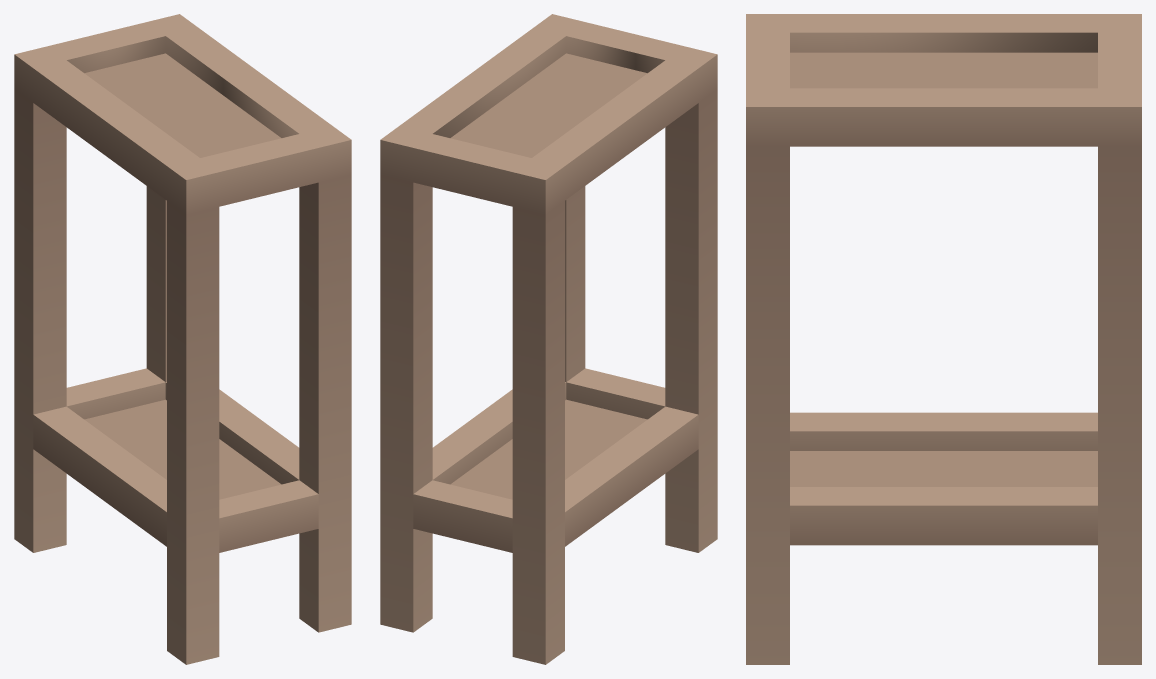
The model's file is cabinet-narrow-small.glb.
3 renders of one model, left to right at view 1: azimuth 30°, elevation 25°; view 2: azimuth 150°, elevation 25°; view 3: azimuth 270°, elevation 25°, orthographic. The views are drawn at different scales.
Parts seen in each view (by area): view 1: cabinet-narrow-small; view 2: cabinet-narrow-small; view 3: cabinet-narrow-small.
Part boxes in pixels (x1,y1,x2,y2): cabinet-narrow-small: (14, 14, 351, 664); cabinet-narrow-small: (380, 14, 717, 664); cabinet-narrow-small: (746, 14, 1141, 664).
Size of the model in its own units: 0.25 by 0.7 by 0.45.
